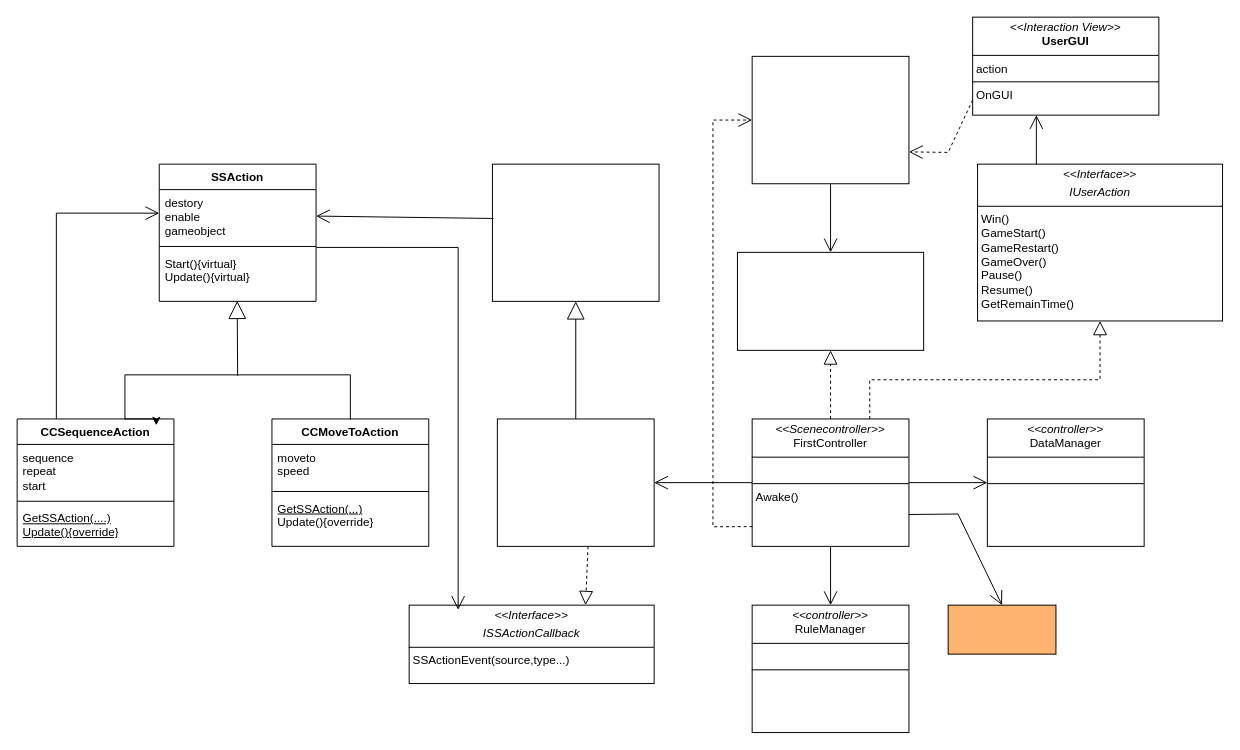
The diagram is 1240 pixels wide and 750 high, and some of its shapes have lost their labels. The centre of each missing label's shape, as x and y in pixels:
<<controller>> CCActionManager: pixel 575 482
<<controller>> SSActionManager RunAction(...) Update(){protected}: pixel 575 232
<<Interface>> ISceneController LoadResources() Pause() Resume(): pixel 830 300
<<SingIton>> SSDirector currentSceneController: pixel 830 119
GameModels: pixel 1001 629
